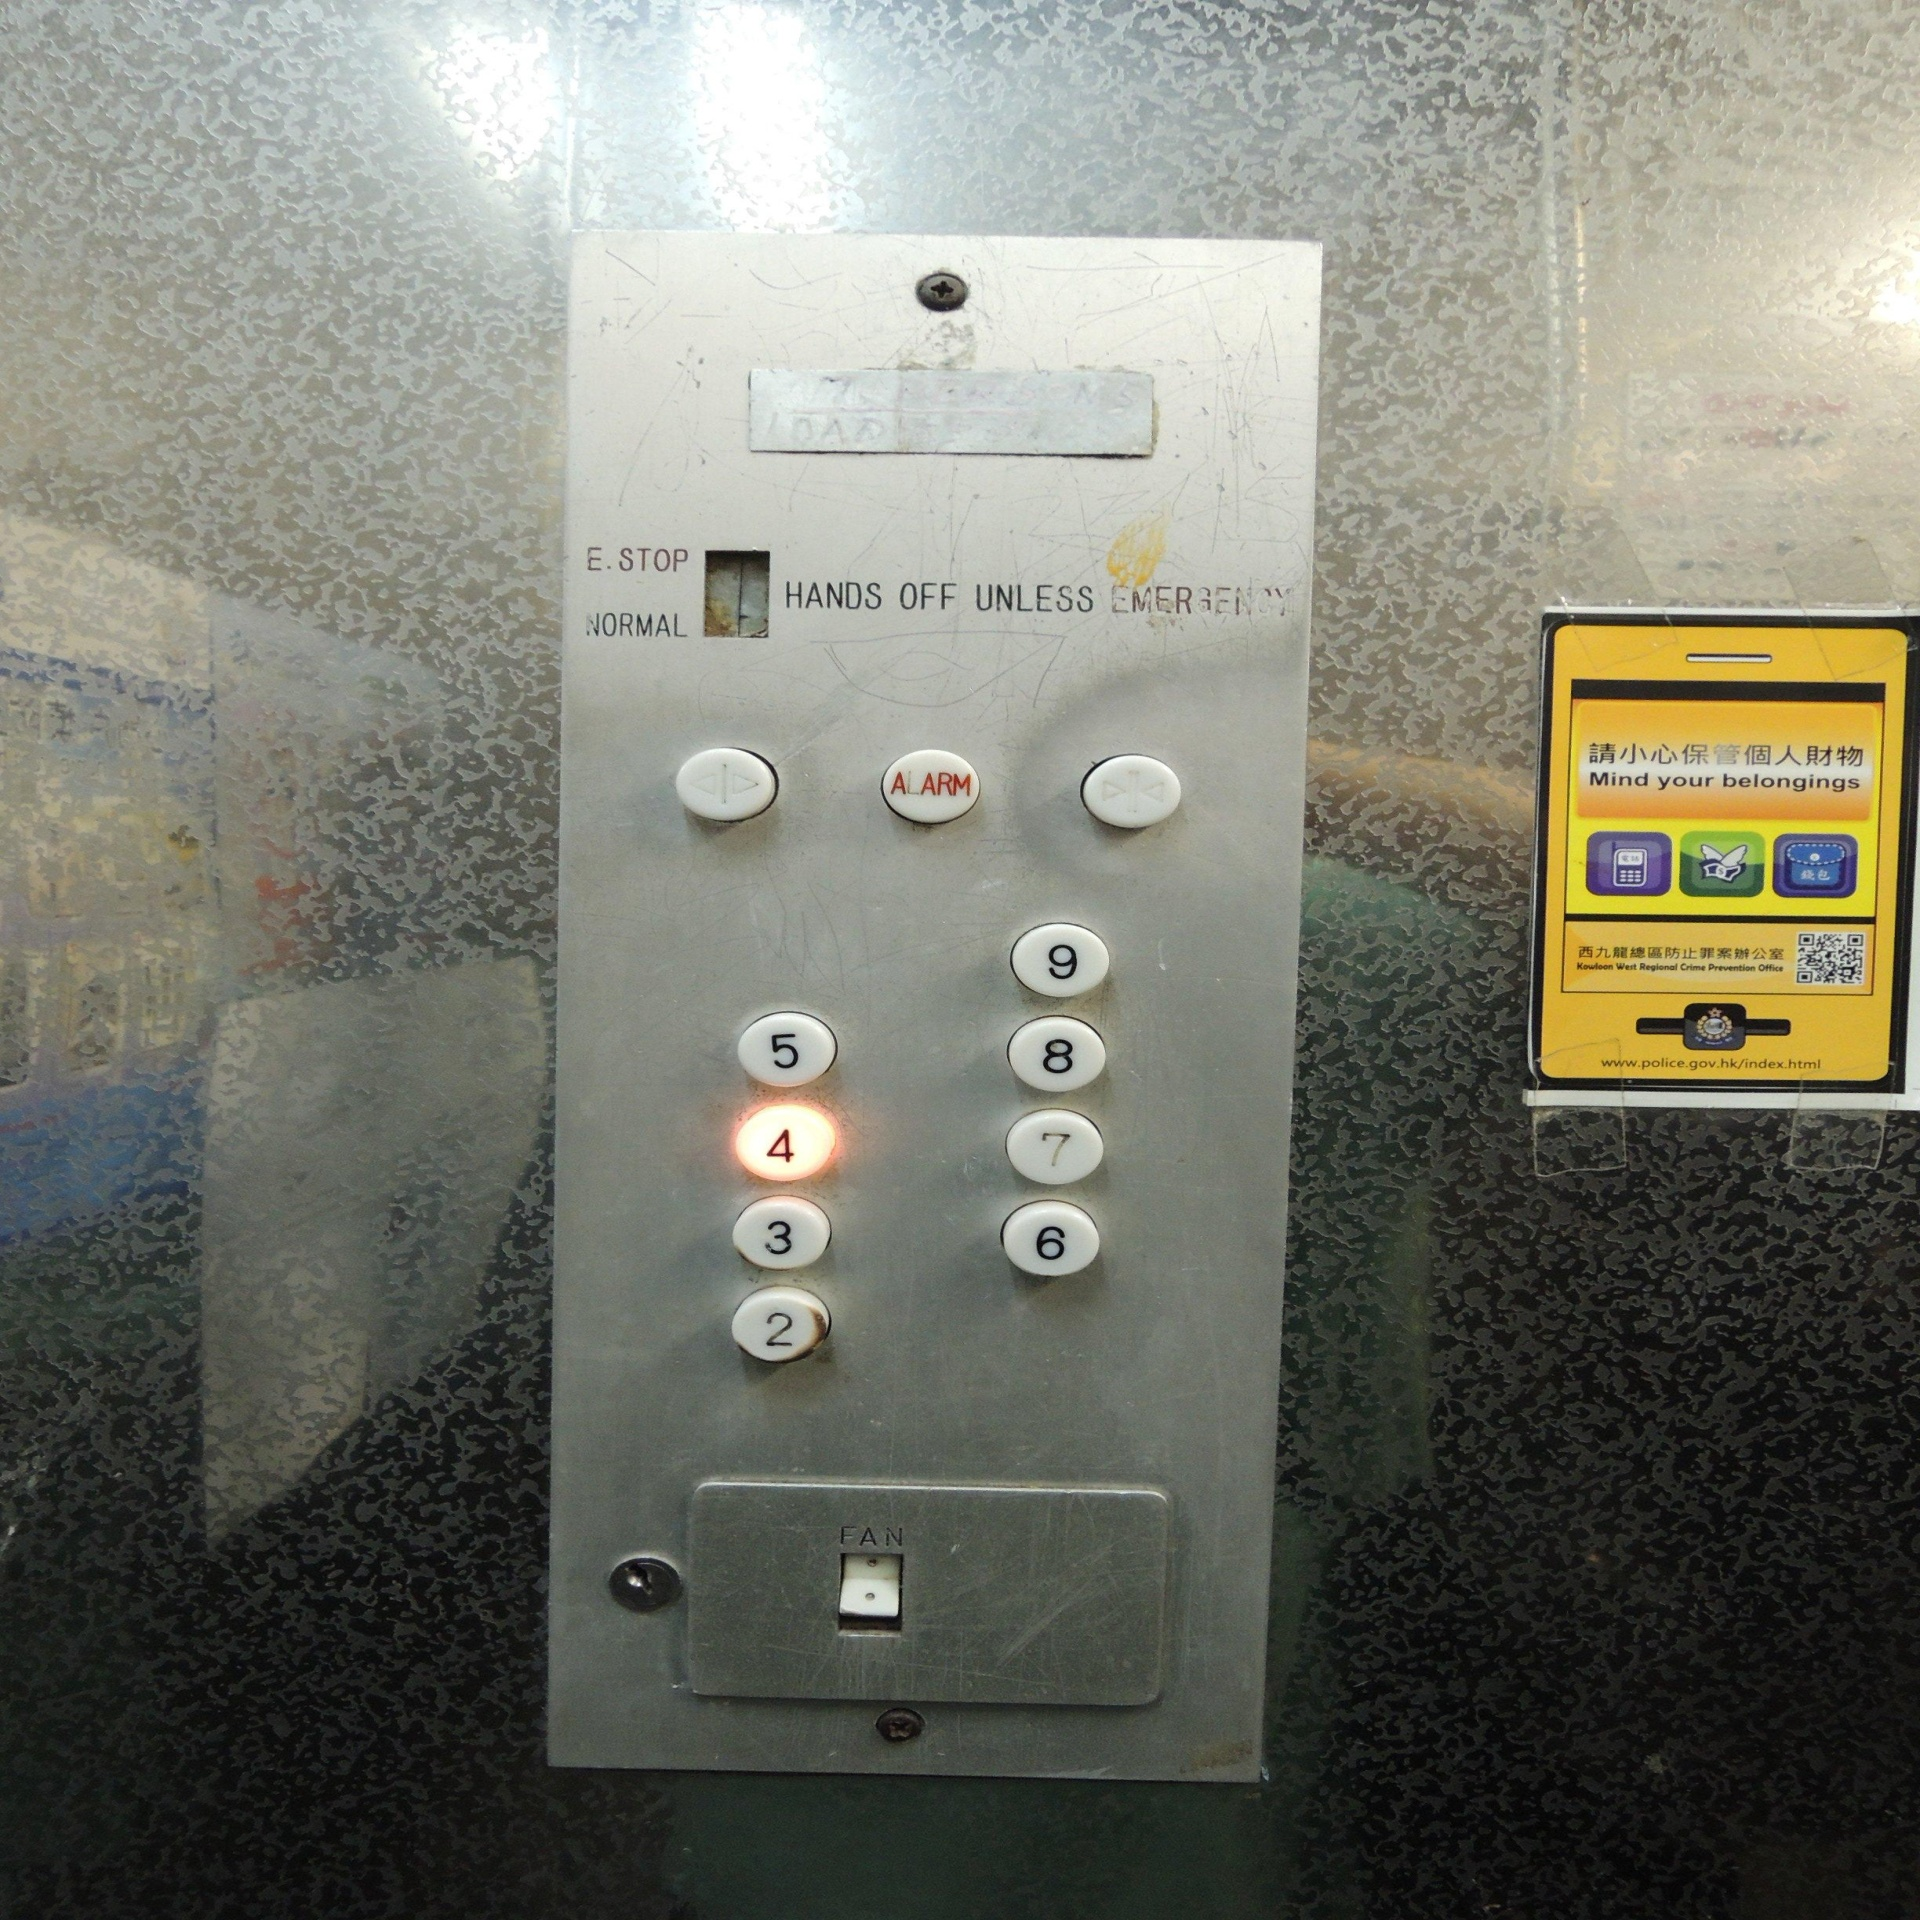2: (728, 1284, 837, 1364)
3: (728, 1194, 837, 1275)
4: (730, 1101, 840, 1185)
5: (731, 1007, 846, 1088)
6: (999, 1199, 1104, 1278)
7: (1006, 1106, 1104, 1185)
8: (1007, 1009, 1108, 1095)
9: (1007, 920, 1111, 1000)
close: (1080, 749, 1187, 833)
keyhole: (605, 1553, 687, 1625)
open: (670, 744, 782, 825)
switch: (833, 1519, 907, 1642)
text_alarm: (879, 745, 983, 828)
